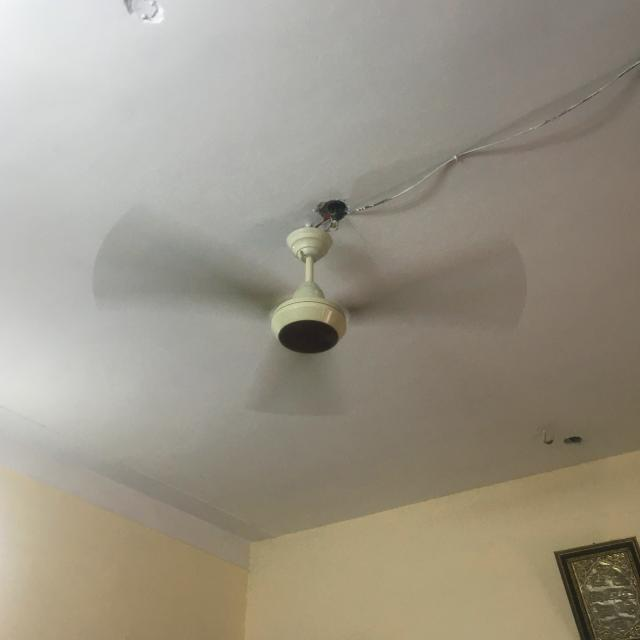on: (81, 194, 537, 426)
